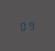nine: (27, 20, 34, 30)
zero: (19, 20, 26, 31)
